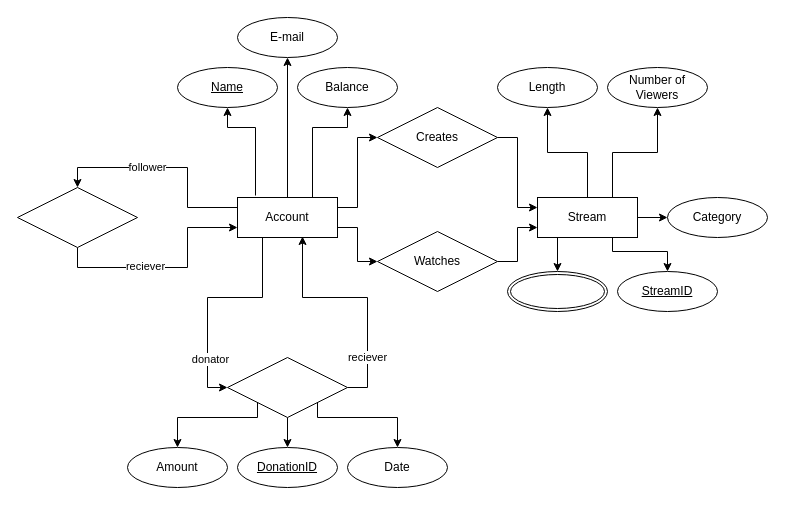
Image size: 785x505. Some labels were removed from this diagram. Here are the shapes that lost their labels. From the top down, the box of each, then its label:
(16, 186, 138, 248): Follows
(506, 270, 608, 312): Chat messages
(226, 356, 348, 418): Donation
